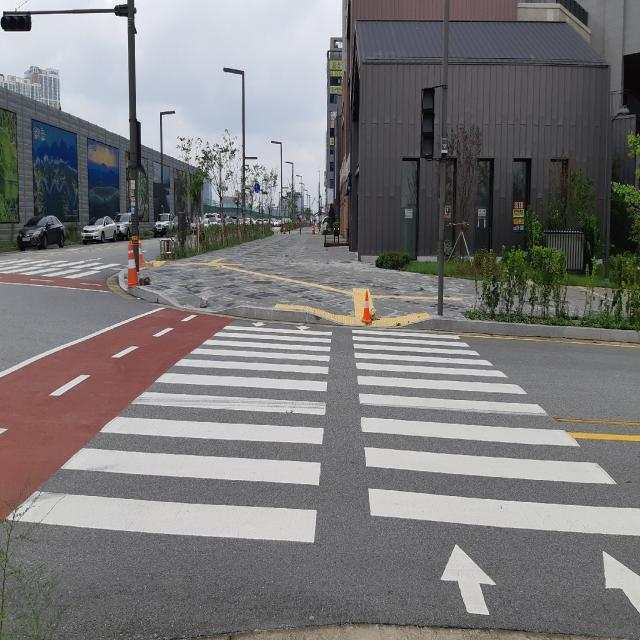횡단보도: (0, 319, 640, 616), (3, 259, 114, 281)
